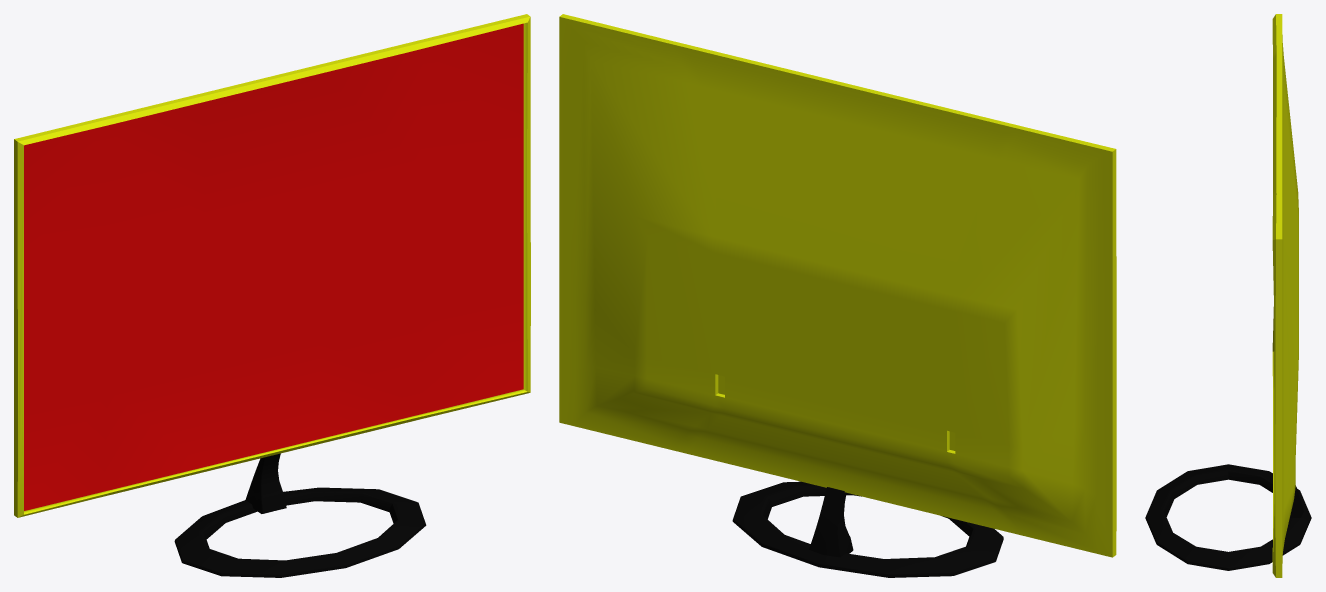
File: monitor 1.fbx
The picture shows the model from 3 angles, left to right: view 1: azimuth 30°, elevation 25°; view 2: azimuth 150°, elevation 25°; view 3: azimuth 270°, elevation 25°; orthographic projection. The views are drawn at different scales.
Visible parts, largest first — view 1: pCube5; view 2: pCube5; view 3: pCube5.
Part boxes in pixels (box(x1,y1,x2,y2)): pCube5: box(14, 14, 530, 577); pCube5: box(559, 14, 1116, 577); pCube5: box(1145, 14, 1311, 577).
Size of the model in its own units: 0.7519 by 0.6111 by 0.2342.
